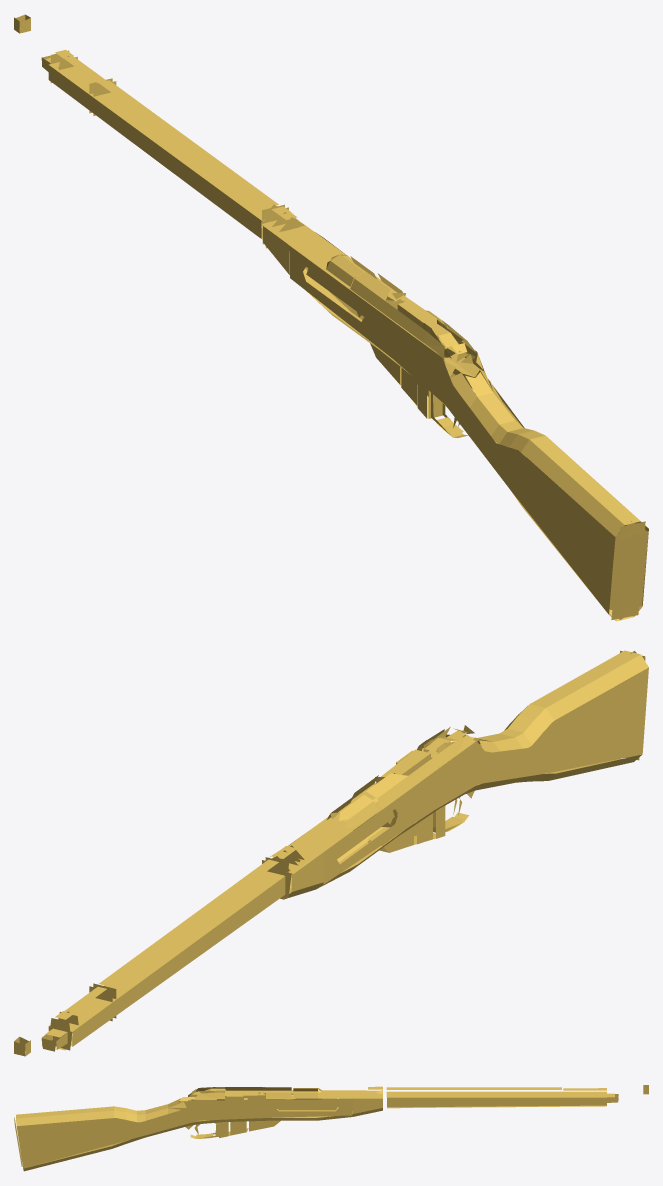
The model's file is charm_mst_sniper_4.glb.
3 views of the same model, one above another, from view 1: azimuth 30°, elevation 25°; view 2: azimuth 150°, elevation 25°; view 3: azimuth 270°, elevation 25° (orthographic). The views are drawn at different scales.
Visible parts, largest first — view 1: p0_paint; view 2: p0_paint; view 3: p0_paint.
Part boxes in pixels (x1=…): p0_paint: x1=14, y1=14, x2=648, y2=621; p0_paint: x1=14, y1=650, x2=648, y2=1056; p0_paint: x1=14, y1=1085, x2=648, y2=1171.
Bounding box in the file's own units: 0.0394 × 0.1743 × 1.21.
